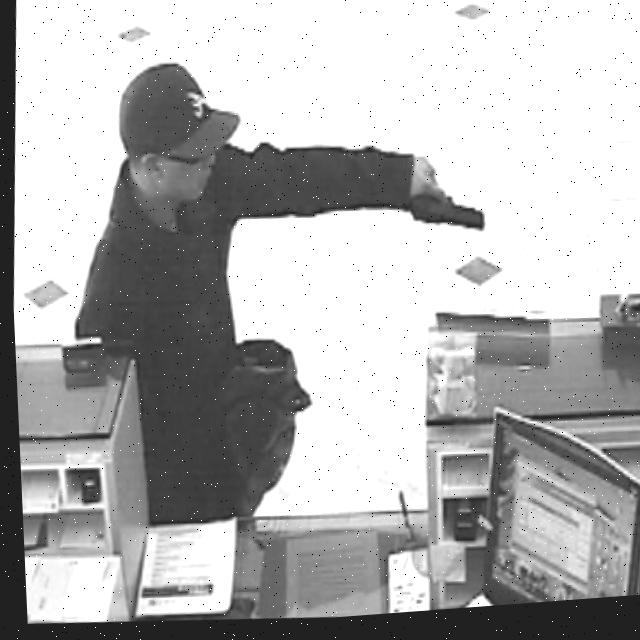pistol: (407, 194, 485, 242)
